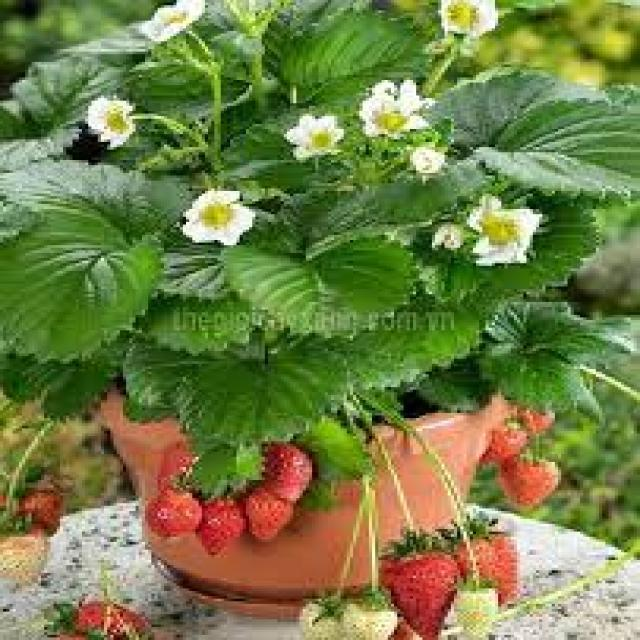Fruta sana: (446, 520, 532, 612), (382, 537, 460, 635), (47, 596, 158, 640), (234, 471, 298, 547), (506, 446, 570, 512), (260, 435, 314, 504), (193, 496, 246, 560), (2, 486, 65, 538), (145, 483, 208, 535), (468, 420, 532, 463), (162, 440, 200, 486)
